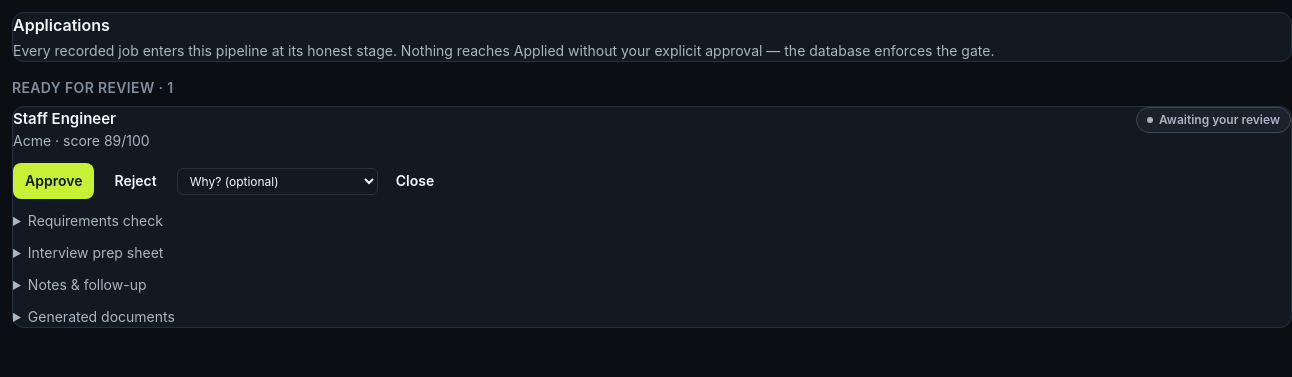
JobSeekerApplicationsPanel › surfaces the schema's approval refusal in plain words
Expected: the text "Awaiting your review" is shown, [1136,107,1291,133]
Click the button "Reject" at (136, 181), box [102,163,169,199]
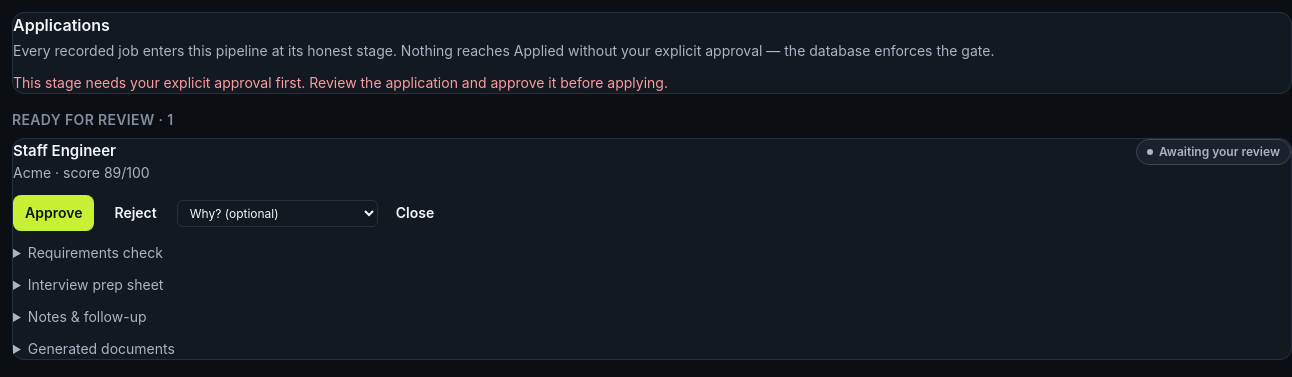
Result: the message shows "explicit approval first" at [13,74,668,91]
